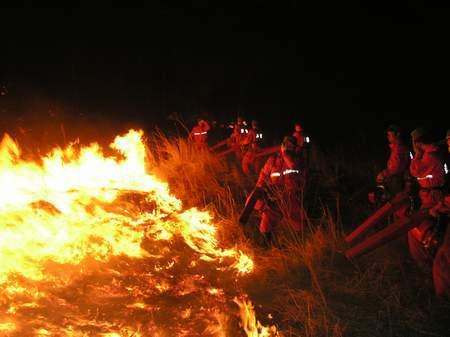fire: (0, 130, 290, 334)
